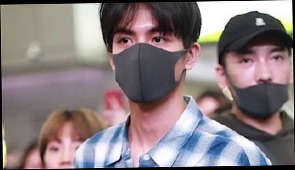mask_weared_incorrect: (223, 48, 292, 120)
with_mask: (111, 22, 187, 105)
without_mask: (44, 134, 86, 168)
